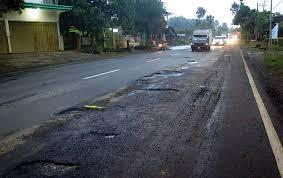Pothole: (52, 94, 133, 138), (191, 44, 220, 135), (8, 149, 96, 178), (133, 60, 186, 95), (0, 87, 57, 118), (179, 47, 197, 73)
